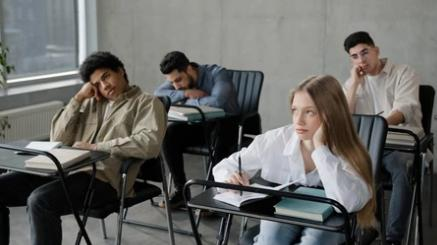sleep: (149, 51, 233, 109)
study: (213, 77, 380, 214), (46, 51, 163, 161), (332, 31, 423, 131)
